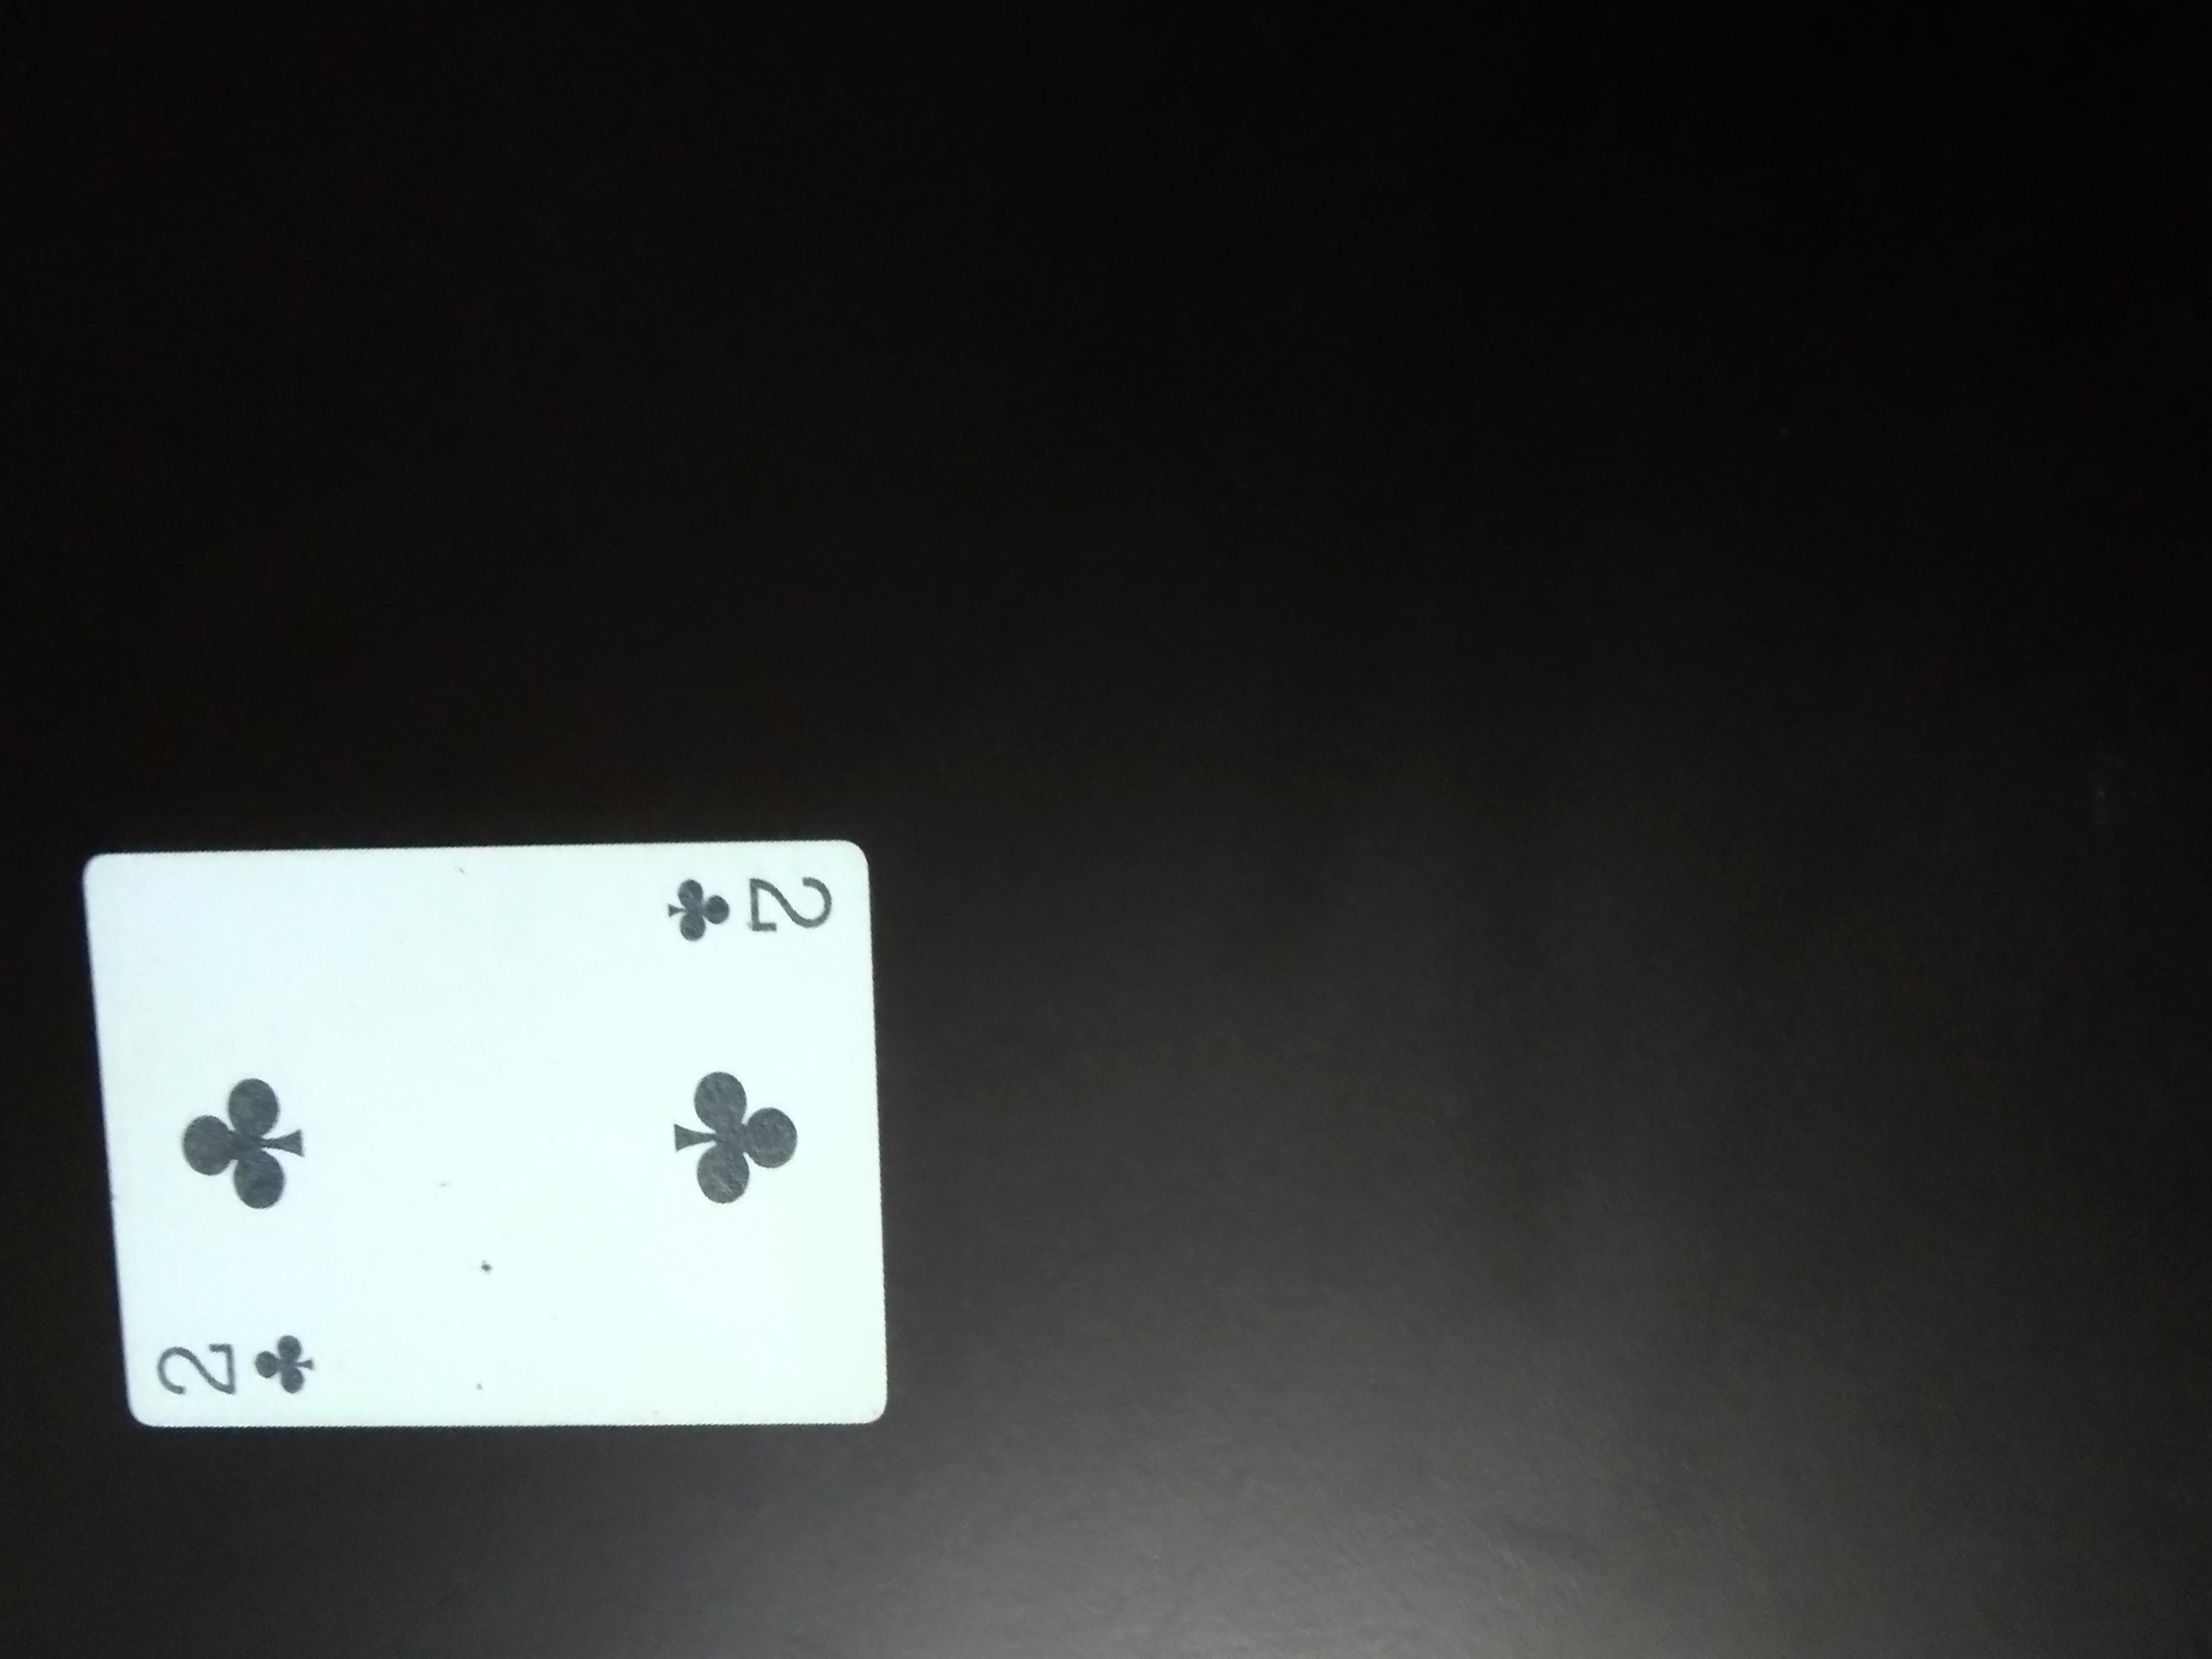2C: (644, 850, 833, 979)
